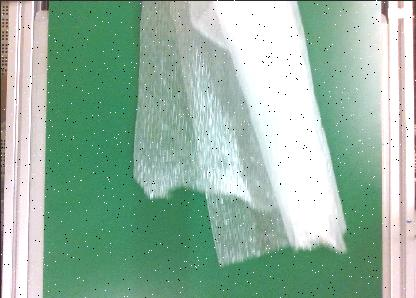Others: (135, 0, 348, 268)
